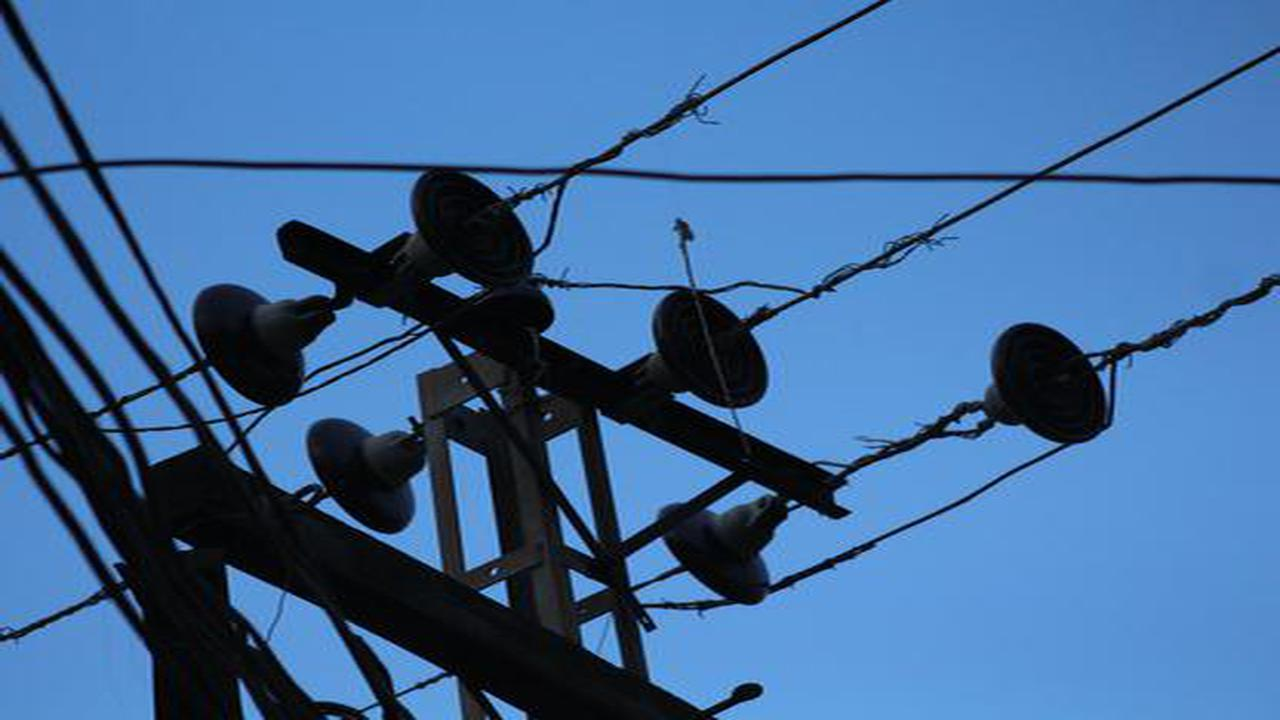insulator_disc: (188, 274, 336, 415), (964, 318, 1117, 452), (654, 470, 798, 612), (639, 278, 781, 417), (398, 159, 540, 288), (300, 410, 429, 535)
